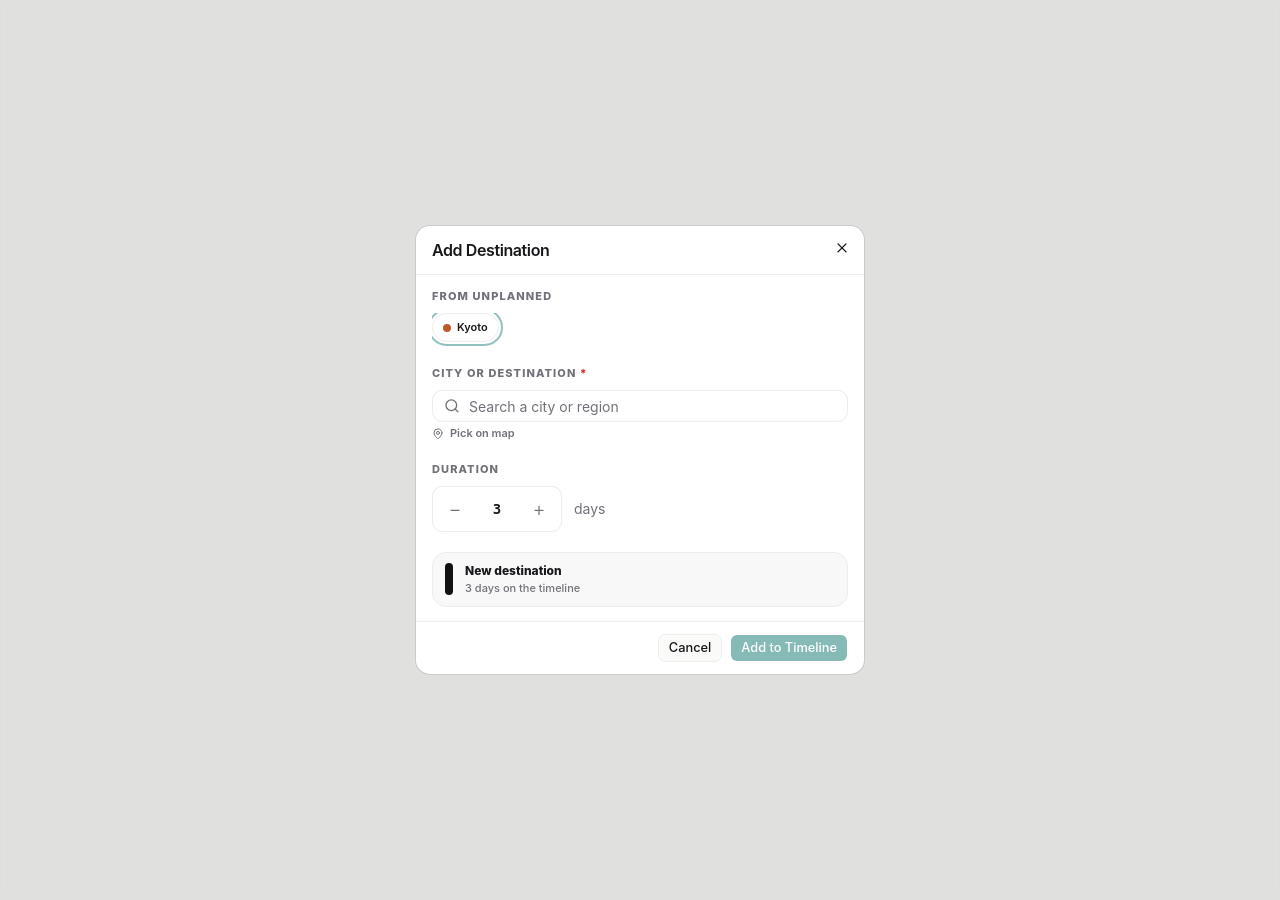
Test: AddStayModal — pick from unplanned › shows candidate chips and pre-fills name on click
Expected: the text "From unplanned" is shown, 432,289 -> 552,303
Click the button "Kyoto".
click(465, 327)  # box 432,313 -> 499,342
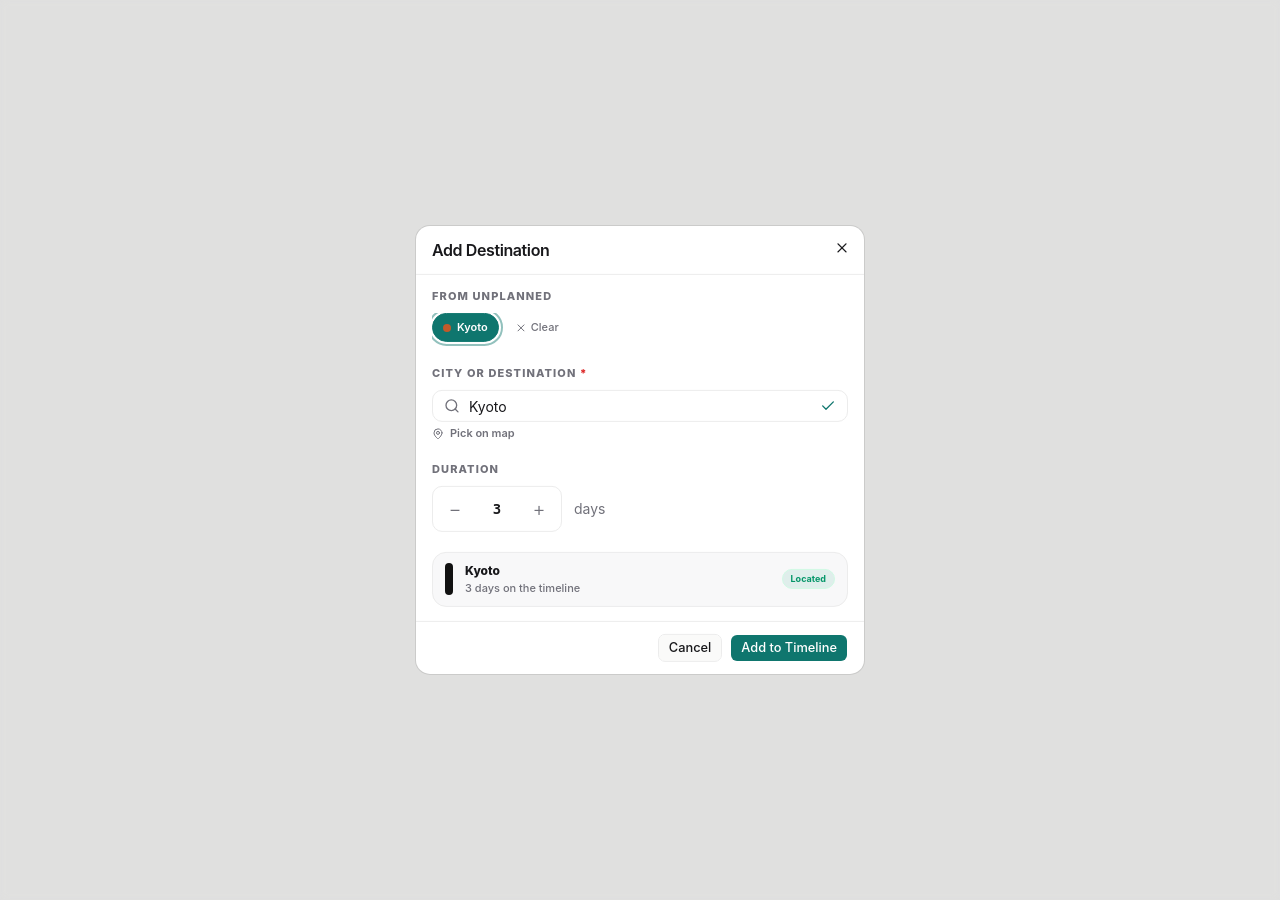
Expected: the field with placeholder "Search a city or region" holds "Kyoto", 432,390 -> 848,422
